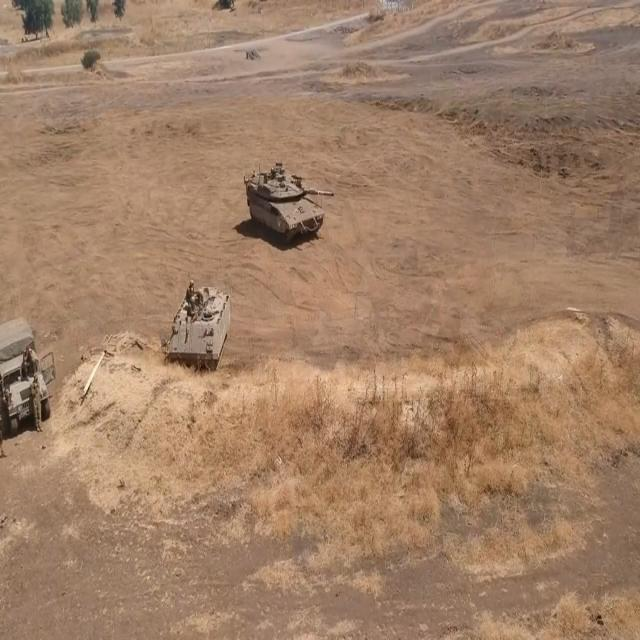tank: (247, 160, 339, 259)
